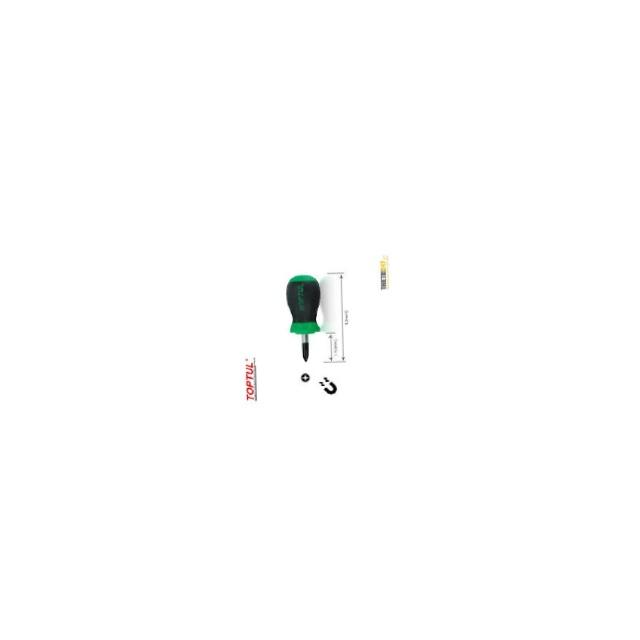screwdriver: (285, 270, 324, 362)
